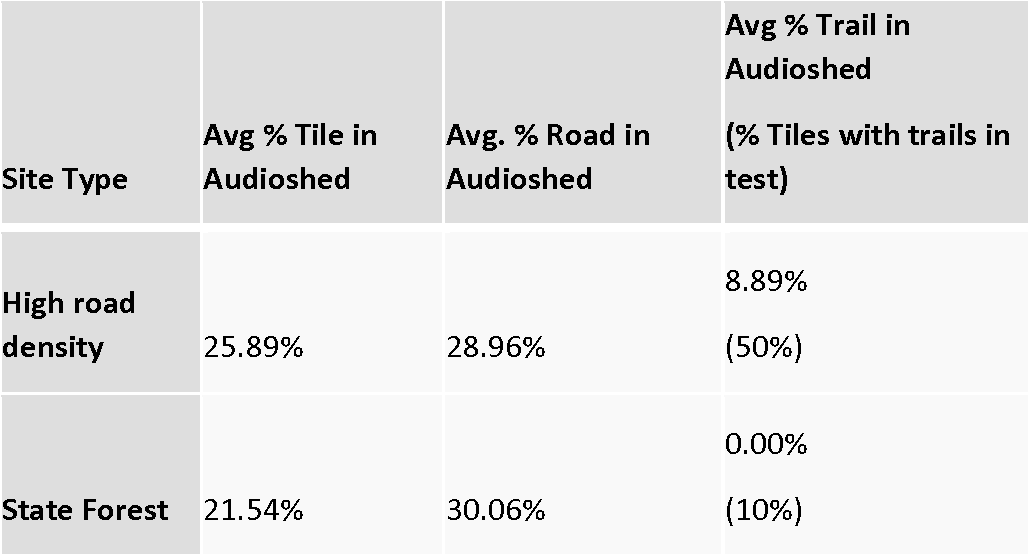fracking table: (4, 3, 1028, 554)
